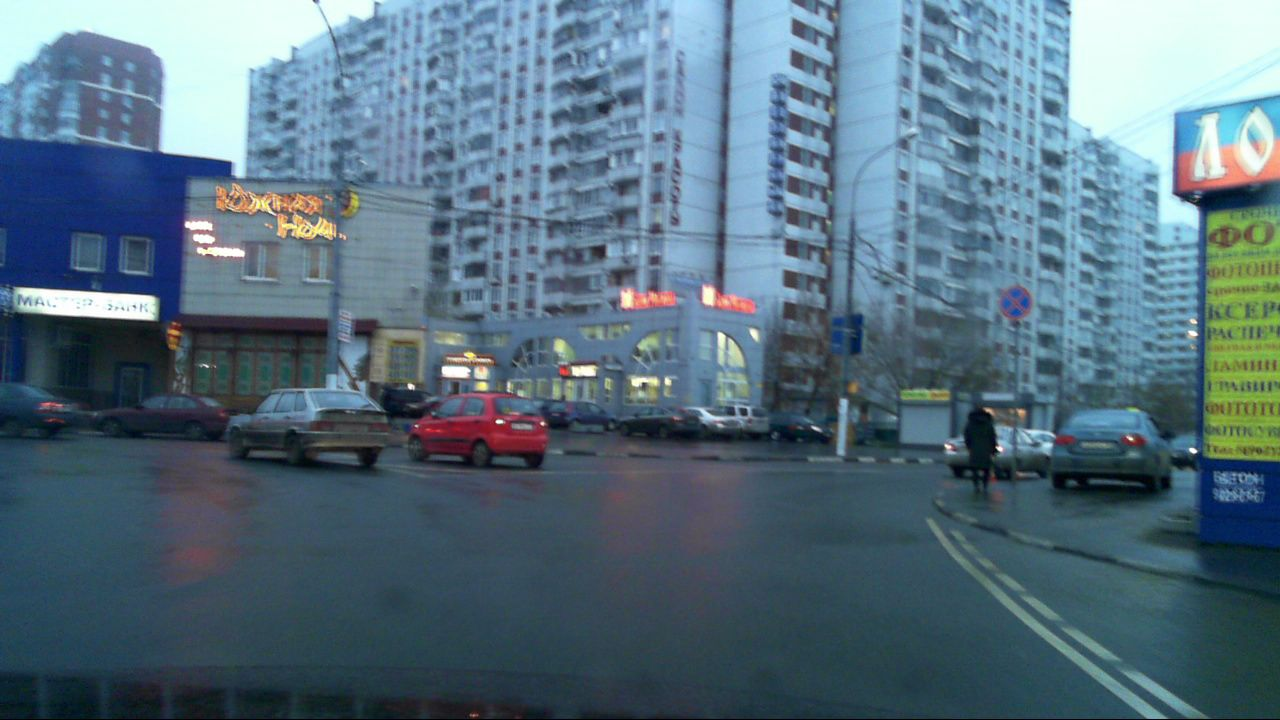No Parking: (998, 285, 1032, 318)
